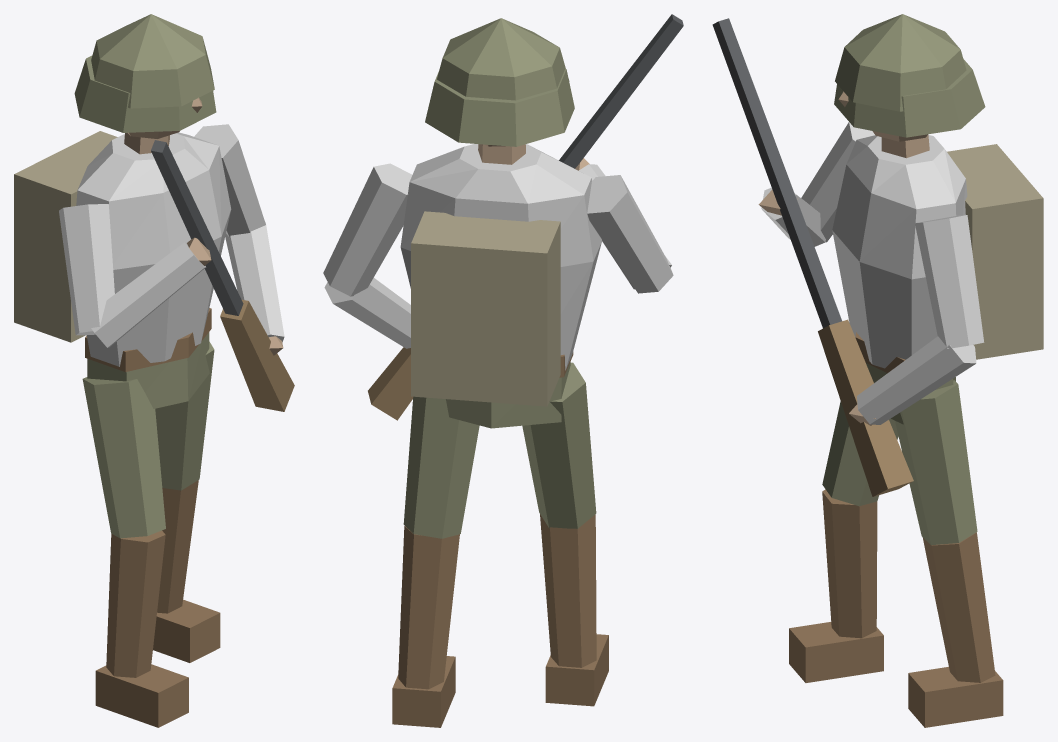
The model's file is infantry.glb.
The picture shows the model from 3 angles, left to right: view 1: azimuth 30°, elevation 25°; view 2: azimuth 150°, elevation 25°; view 3: azimuth 270°, elevation 25°; orthographic projection. The views are drawn at different scales.
Visible parts, largest first — view 1: LOD0; view 2: LOD0; view 3: LOD0.
Part boxes in pixels (x1,y1,x2,y2): LOD0: (14,14,294,727); LOD0: (323,14,683,727); LOD0: (712,14,1043,727).
Size of what is drawn, in the model's own units: 0.4042 by 0.981 by 0.4366.
